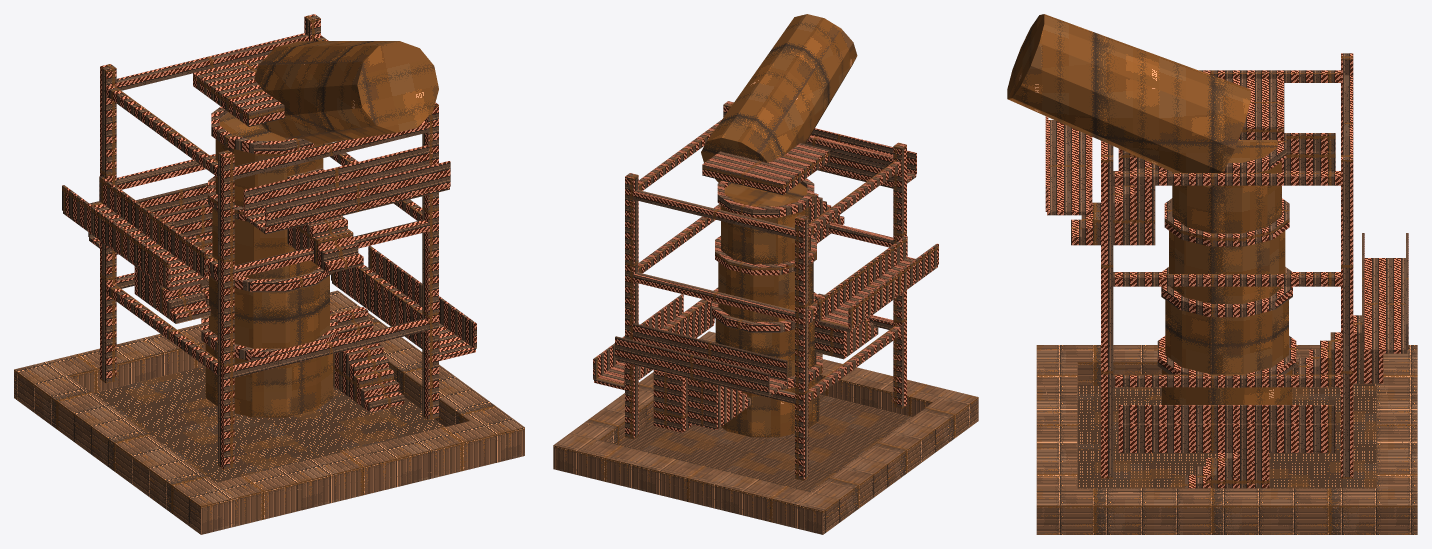
File: lm_process_tower.glb
3 views of the same model, side by side, from view 1: azimuth 30°, elevation 25°; view 2: azimuth 150°, elevation 25°; view 3: azimuth 270°, elevation 25° (orthographic). The views are drawn at different scales.
Parts seen in each view (by area): view 1: lm_process_tower; view 2: lm_process_tower; view 3: lm_process_tower.
Part boxes in pixels (<box>): lm_process_tower: <box>14,14,524,534</box>; lm_process_tower: <box>553,14,978,534</box>; lm_process_tower: <box>1007,14,1417,534</box>.
Size of the model in its own units: 13 by 17.06 by 14.
47 materials, 47 textured.
